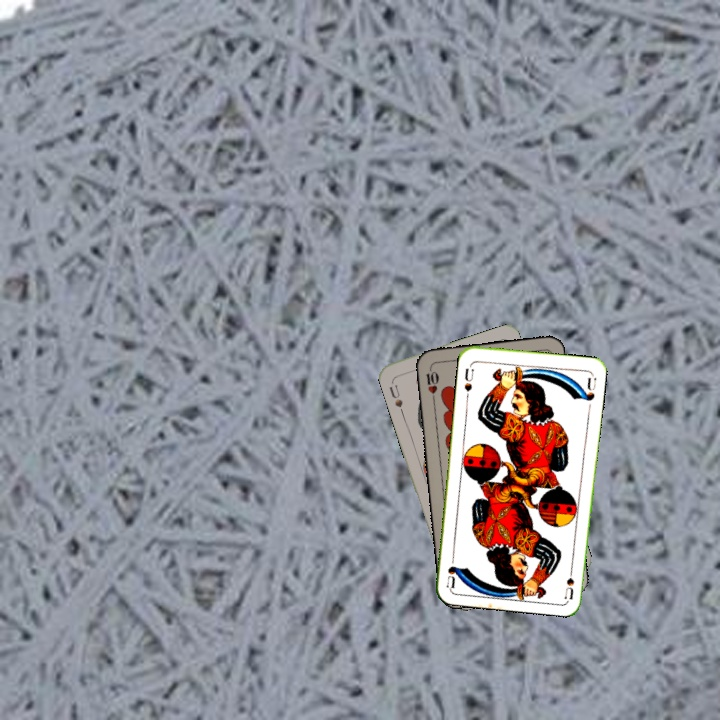H10: (422, 364, 441, 404)
SU: (560, 560, 577, 600), (460, 360, 476, 400), (385, 381, 405, 410)
